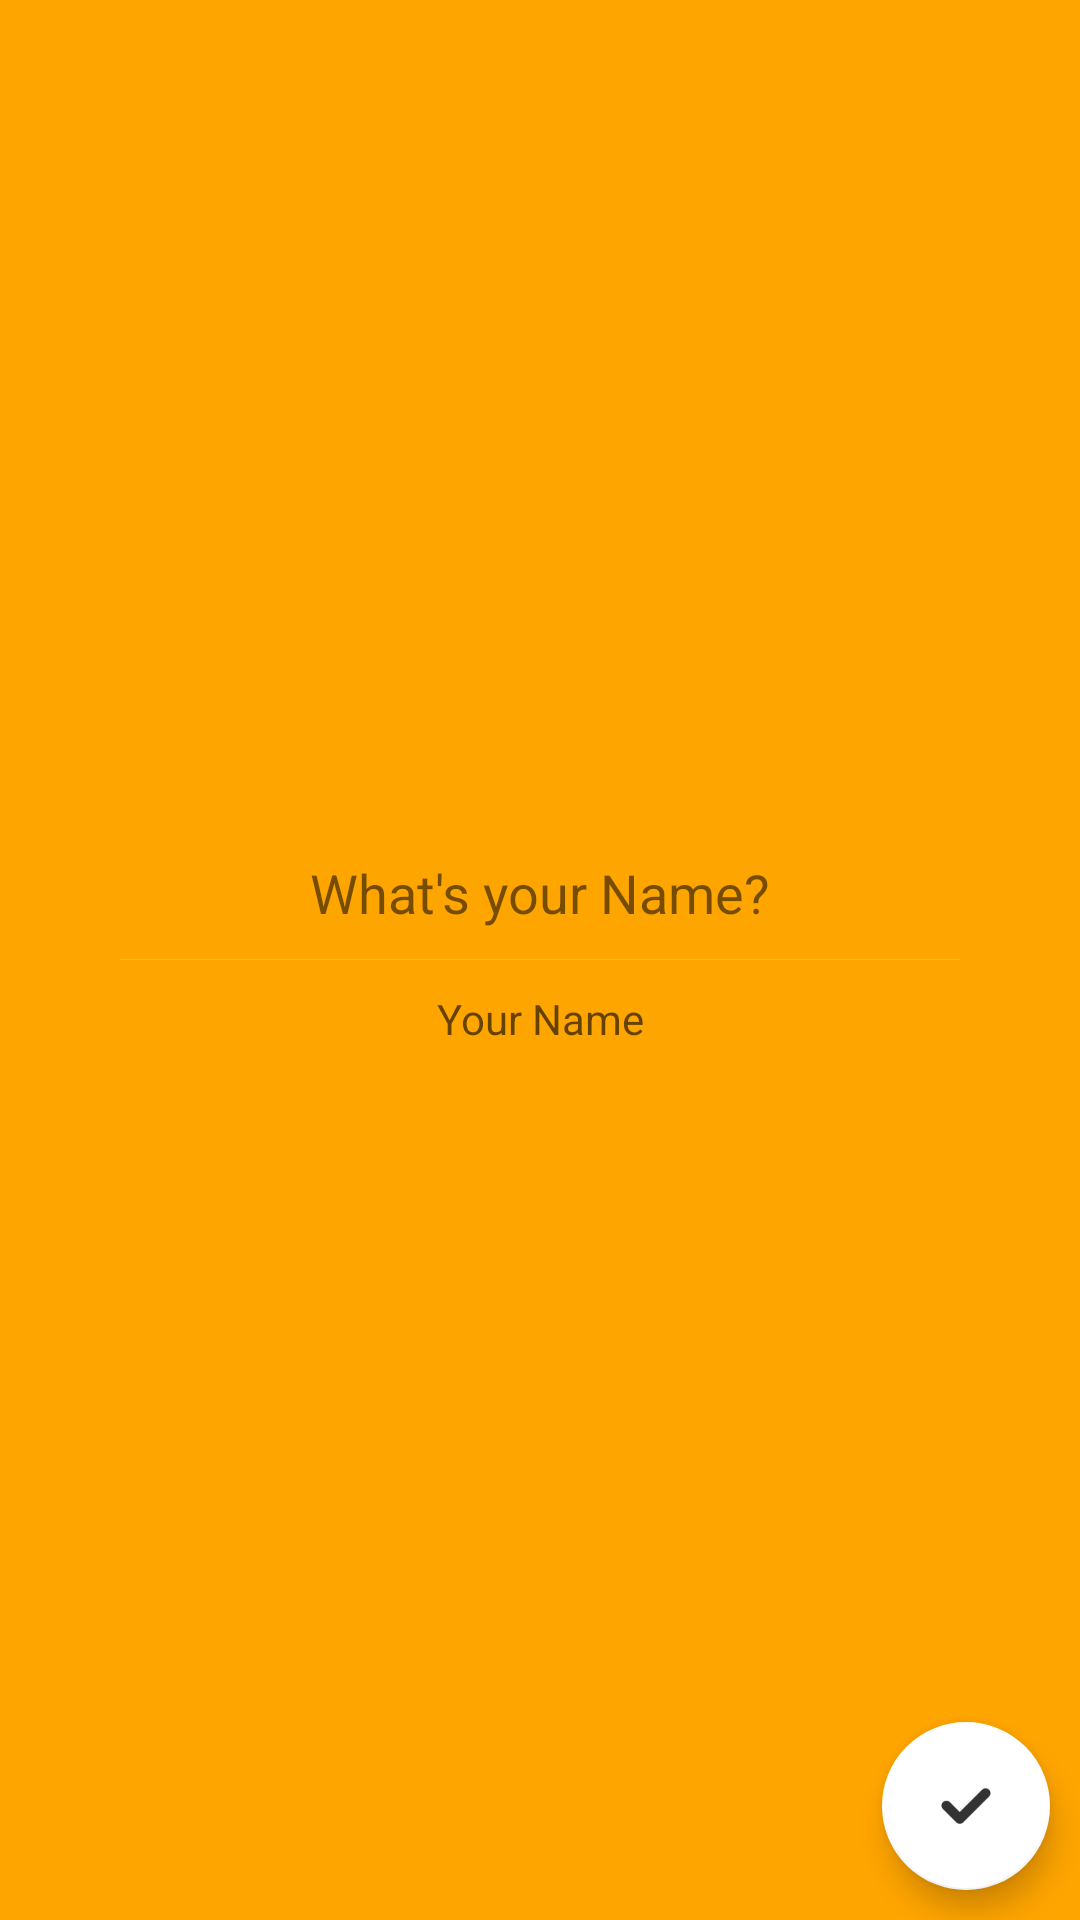

Locate icon controls on the screen. Image size 1080×1920, boxes as (x1, y1, x2, y2).
tick: (882, 1722, 1050, 1890)
